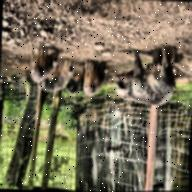boar: (113, 42, 178, 113), (80, 55, 113, 98), (39, 58, 78, 93), (26, 46, 64, 81)
